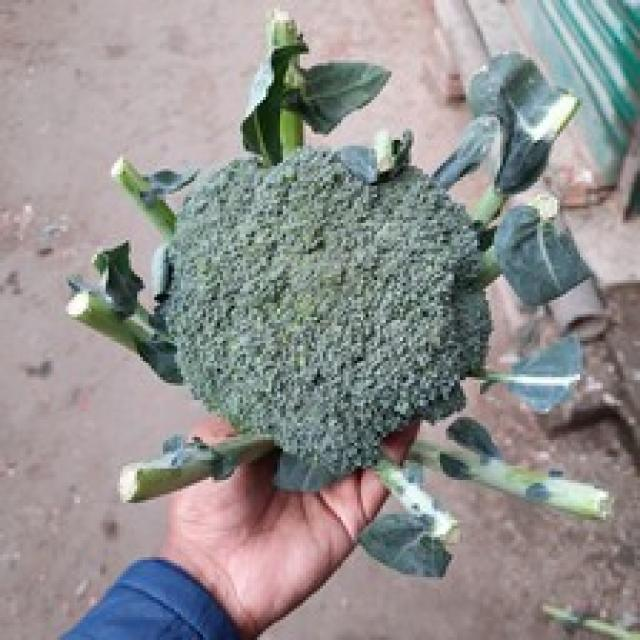Broccoli: (161, 149, 490, 477), (164, 149, 490, 476)
